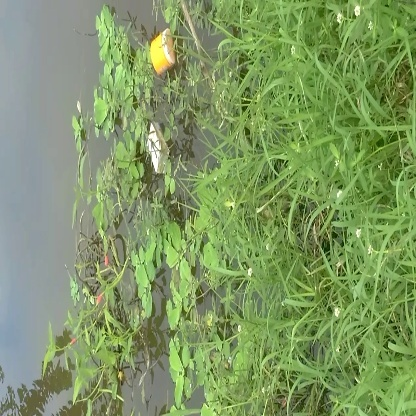milk-box: (139, 119, 181, 184)
